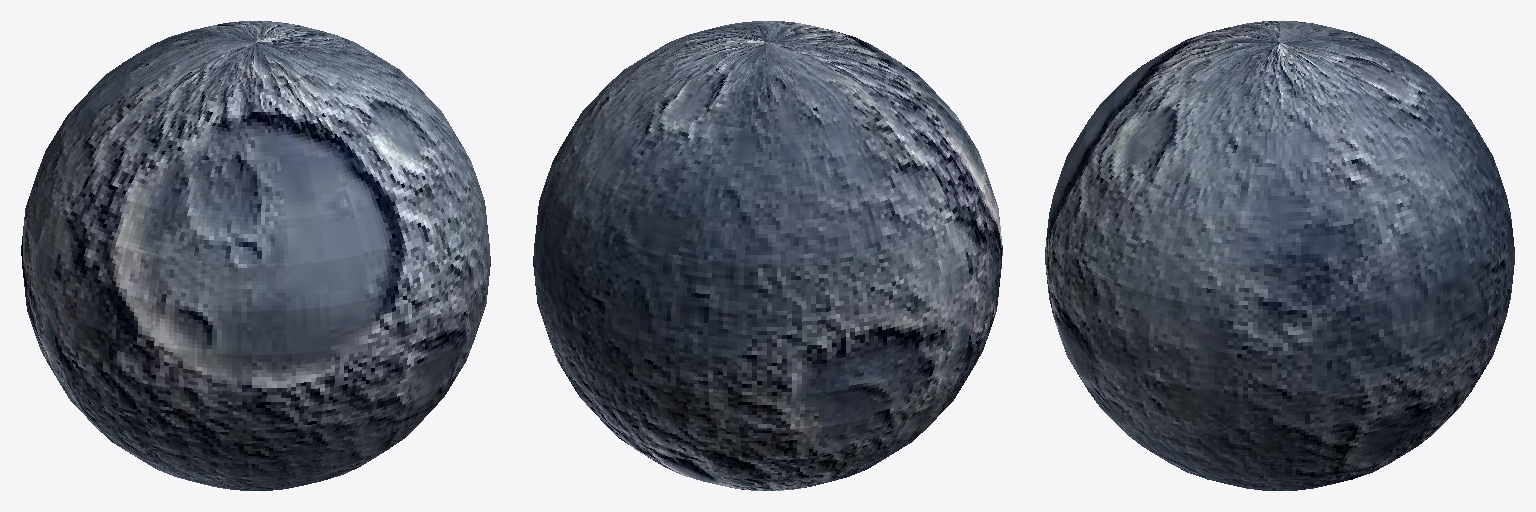
3 views of the same model, side by side, from view 1: azimuth 30°, elevation 25°; view 2: azimuth 150°, elevation 25°; view 3: azimuth 270°, elevation 25° (orthographic).
Visible parts, largest first — view 1: Sphere.001_Sphere; view 2: Sphere.001_Sphere; view 3: Sphere.001_Sphere.
Part boxes in pixels (left/top/right/bottom): Sphere.001_Sphere: left=21, top=21, right=490, bottom=490; Sphere.001_Sphere: left=533, top=21, right=1002, bottom=490; Sphere.001_Sphere: left=1045, top=21, right=1514, bottom=490.
Size of the model in its own units: 1 by 1 by 1.
Materials: 1 (1 with a texture image).